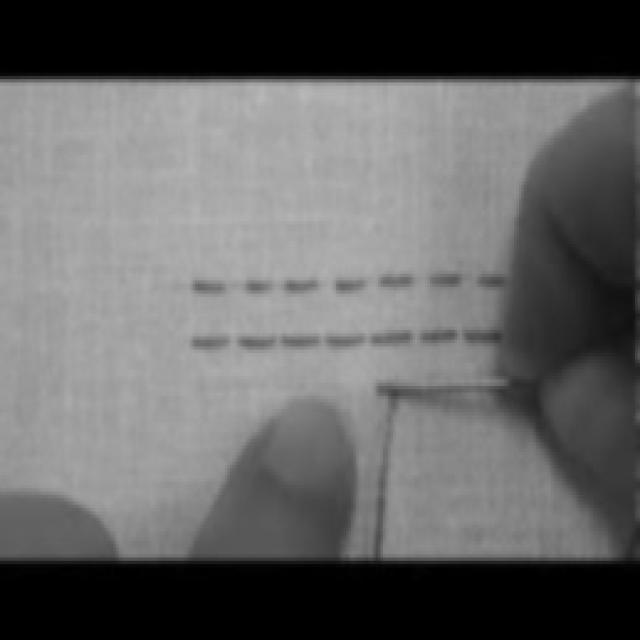stitch: (236, 275, 273, 294), (235, 334, 277, 350), (370, 330, 413, 345), (427, 269, 461, 287), (193, 334, 230, 350), (193, 277, 227, 294), (283, 277, 319, 293), (463, 329, 501, 344), (377, 274, 414, 289), (325, 334, 365, 347), (477, 269, 505, 287), (281, 334, 319, 347), (334, 277, 366, 292), (421, 329, 456, 342)
